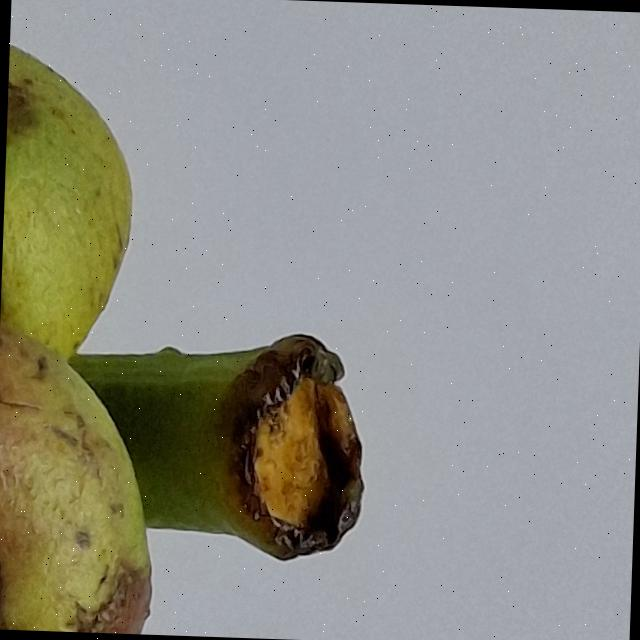mangosteen: (0, 0, 456, 640)
